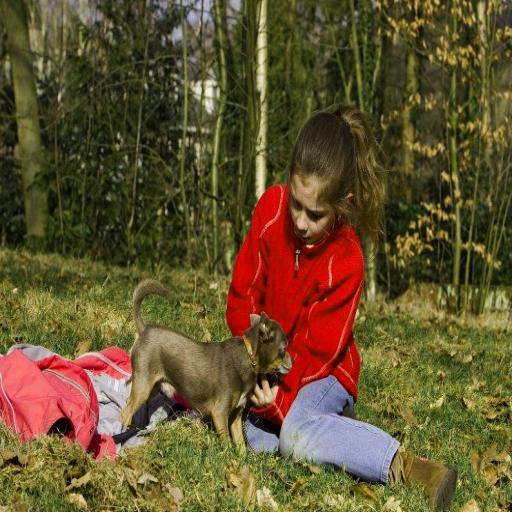dog_face: (246, 312, 301, 387)
